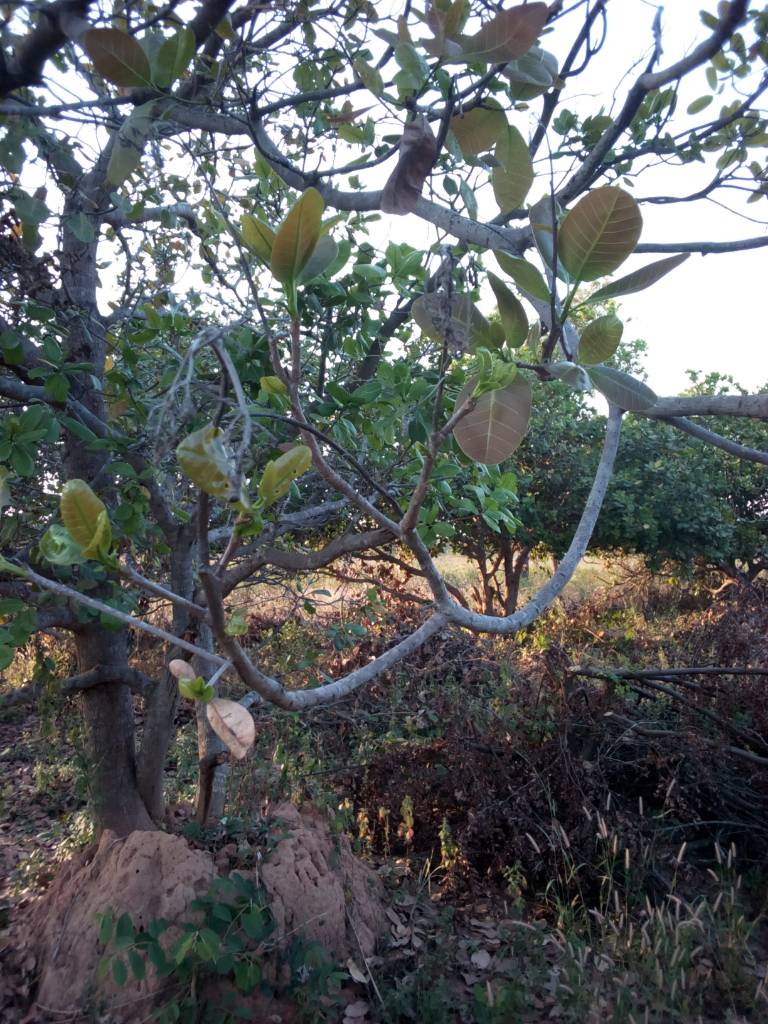Termites: (32, 832, 205, 992), (277, 822, 369, 939)
